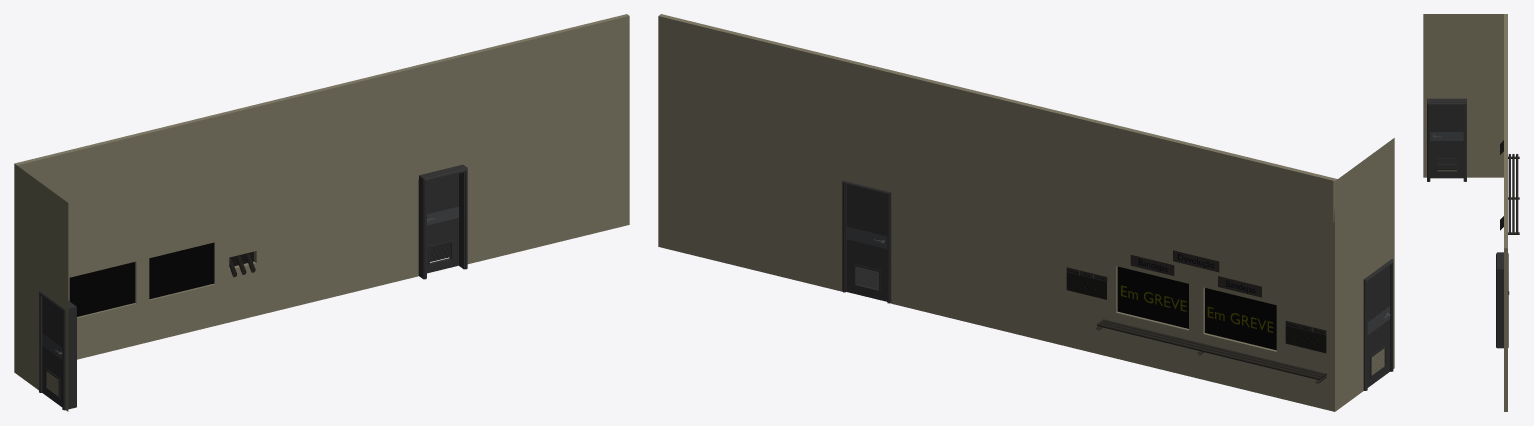
Rendered from ParedeBandeja.obj.
3 views of the same model, side by side, from view 1: azimuth 30°, elevation 25°; view 2: azimuth 150°, elevation 25°; view 3: azimuth 270°, elevation 25° (orthographic). The views are drawn at different scales.
Visible parts, largest first — view 1: Mesh.098_Mesh.008_Mesh.035_Mes, Mesh.117_Mesh.013_Mesh.006_Mes, Mesh.118_Mesh.044_Mesh.022_Mes, Mesh.129_Mesh.041_Mesh.037_Mes; view 2: Mesh.098_Mesh.008_Mesh.035_Mes, Mesh.117_Mesh.013_Mesh.006_Mes, Mesh.118_Mesh.044_Mesh.022_Mes, Mesh.129_Mesh.041_Mesh.037_Mes, Mesh.097_Mesh.039_Mesh.040_Mes, Mesh.126_Mesh.015_Mesh.012_Mes, Mesh.095_Mesh.009_Mesh.023_Mes; view 3: Mesh.098_Mesh.008_Mesh.035_Mes, Mesh.129_Mesh.041_Mesh.037_Mes, Mesh.118_Mesh.044_Mesh.022_Mes, Mesh.126_Mesh.015_Mesh.012_Mes, Mesh.097_Mesh.039_Mesh.040_Mes, Mesh.095_Mesh.009_Mesh.023_Mes.
Part boxes in pixels (bbox=[...]): Mesh.098_Mesh.008_Mesh.035_Mes: bbox=[14, 14, 629, 411]; Mesh.117_Mesh.013_Mesh.006_Mes: bbox=[69, 242, 213, 316]; Mesh.118_Mesh.044_Mesh.022_Mes: bbox=[418, 164, 467, 279]; Mesh.129_Mesh.041_Mesh.037_Mes: bbox=[39, 290, 76, 410]; Mesh.098_Mesh.008_Mesh.035_Mes: bbox=[658, 14, 1394, 411]; Mesh.117_Mesh.013_Mesh.006_Mes: bbox=[1117, 266, 1276, 350]; Mesh.118_Mesh.044_Mesh.022_Mes: bbox=[842, 180, 891, 303]; Mesh.129_Mesh.041_Mesh.037_Mes: bbox=[1363, 259, 1393, 390]; Mesh.097_Mesh.039_Mesh.040_Mes: bbox=[1097, 323, 1321, 380]; Mesh.126_Mesh.015_Mesh.012_Mes: bbox=[1102, 319, 1326, 376]; Mesh.095_Mesh.009_Mesh.023_Mes: bbox=[1099, 321, 1324, 378]; Mesh.098_Mesh.008_Mesh.035_Mes: bbox=[1423, 14, 1507, 411]; Mesh.129_Mesh.041_Mesh.037_Mes: bbox=[1427, 98, 1466, 181]; Mesh.118_Mesh.044_Mesh.022_Mes: bbox=[1496, 252, 1509, 348]; Mesh.126_Mesh.015_Mesh.012_Mes: bbox=[1508, 154, 1510, 233]; Mesh.097_Mesh.039_Mesh.040_Mes: bbox=[1516, 154, 1518, 233]; Mesh.095_Mesh.009_Mesh.023_Mes: bbox=[1512, 154, 1514, 233].
Size of the model in its own units: 27.73 by 9 by 4.8.
